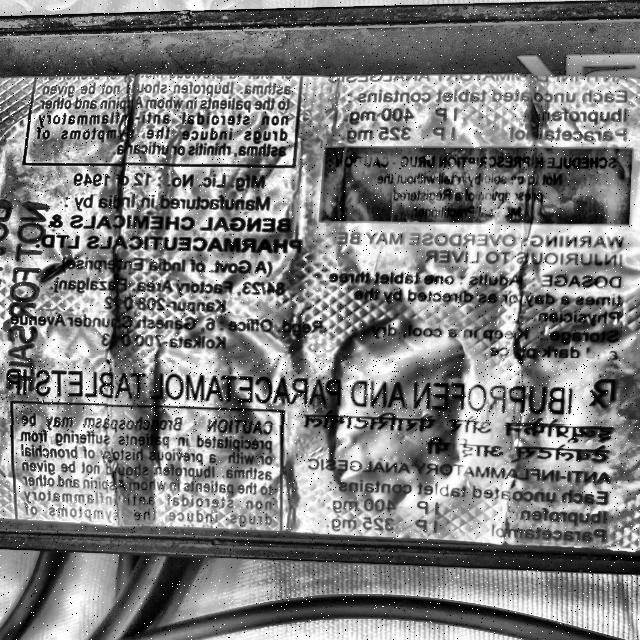IBUPROFEN AND PARACETAMOL TABLETS: (1, 359, 592, 425)
